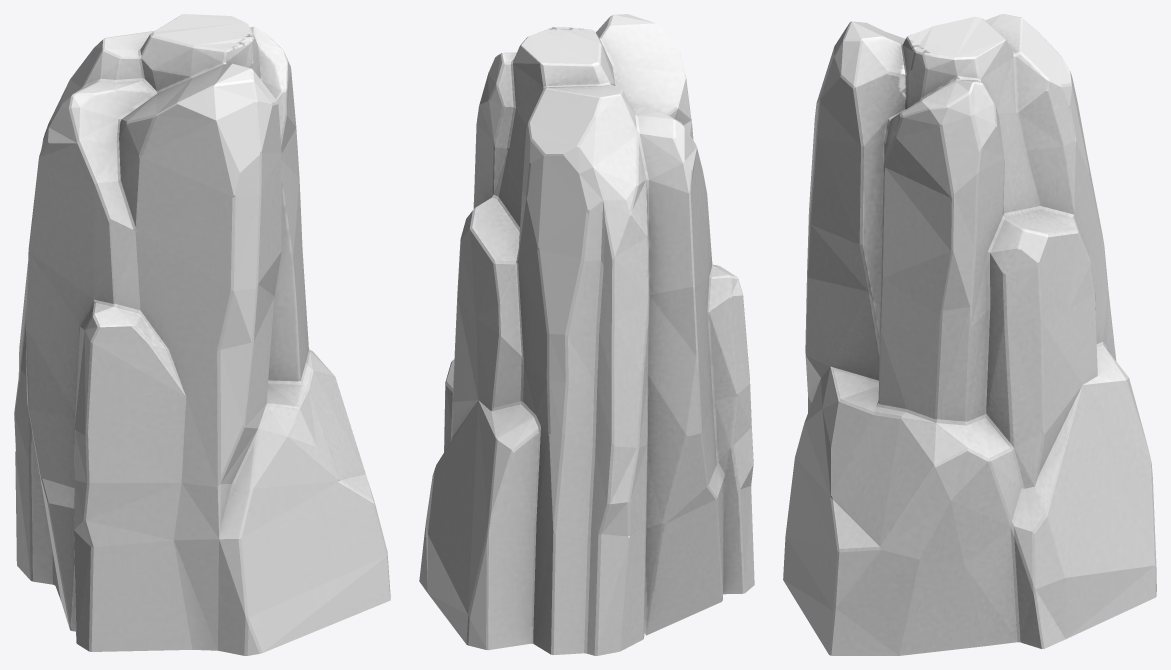
File: wall_04.fbx
The picture shows the model from 3 angles, left to right: view 1: azimuth 30°, elevation 25°; view 2: azimuth 150°, elevation 25°; view 3: azimuth 270°, elevation 25°; orthographic projection. The views are drawn at different scales.
Parts seen in each view (by area): view 1: rock_combo_4.004; view 2: rock_combo_4.004; view 3: rock_combo_4.004.
Boxes of the visible parts, <box> form: rock_combo_4.004: <box>14,14,390,655</box>; rock_combo_4.004: <box>419,14,754,655</box>; rock_combo_4.004: <box>783,14,1156,655</box>.
Size of the model in its own units: 244 by 464 by 276.
Materials: 1 (1 with a texture image).
